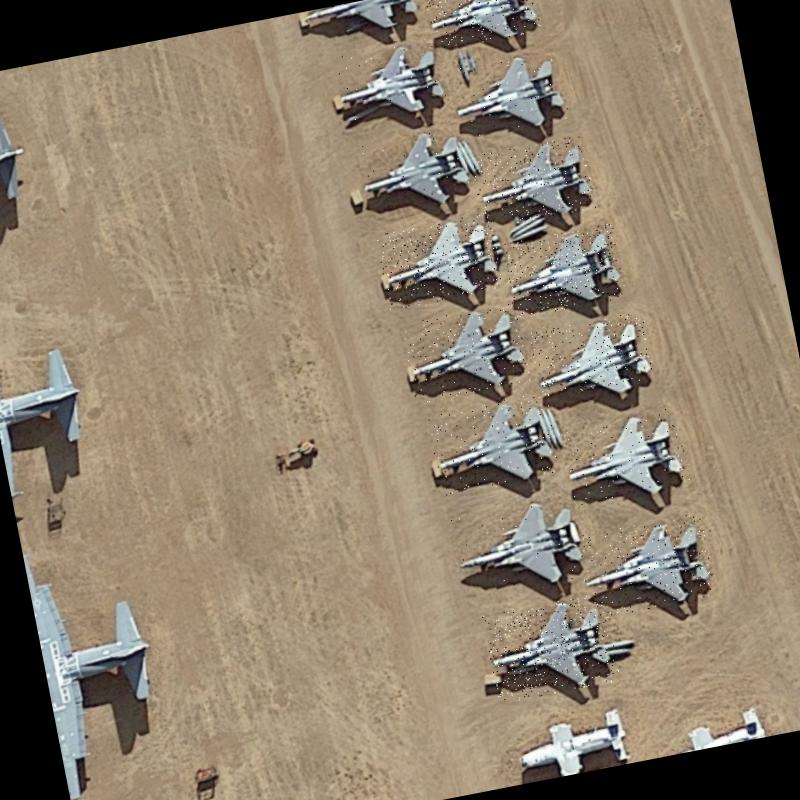A13: (481, 590, 620, 704), (450, 490, 592, 600), (574, 512, 718, 620), (426, 391, 562, 497), (557, 406, 691, 510), (400, 301, 532, 405), (374, 211, 504, 310), (501, 222, 626, 318), (470, 134, 596, 228), (352, 123, 474, 218), (528, 310, 656, 399), (448, 48, 570, 141), (332, 38, 450, 125), (423, 0, 541, 50)
